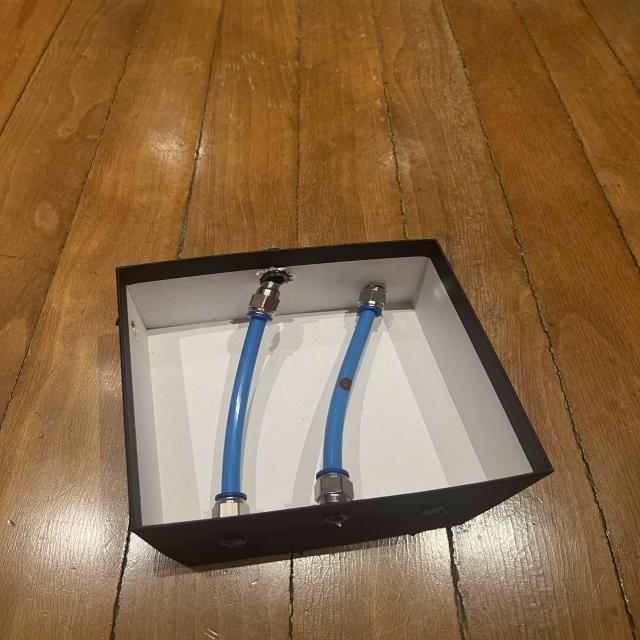hose_damage: (338, 377, 352, 391)
